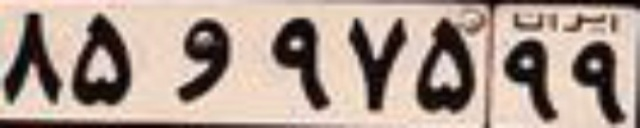5: (70, 11, 133, 104), (418, 16, 475, 112)
7: (348, 16, 407, 111)
8: (4, 8, 61, 104)
9: (266, 15, 333, 109), (501, 37, 557, 120), (570, 39, 625, 122)
vav: (171, 17, 234, 102)
